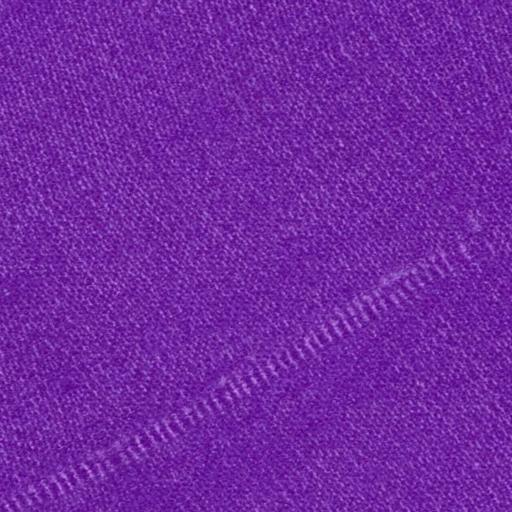slub: (1, 236, 482, 511)
